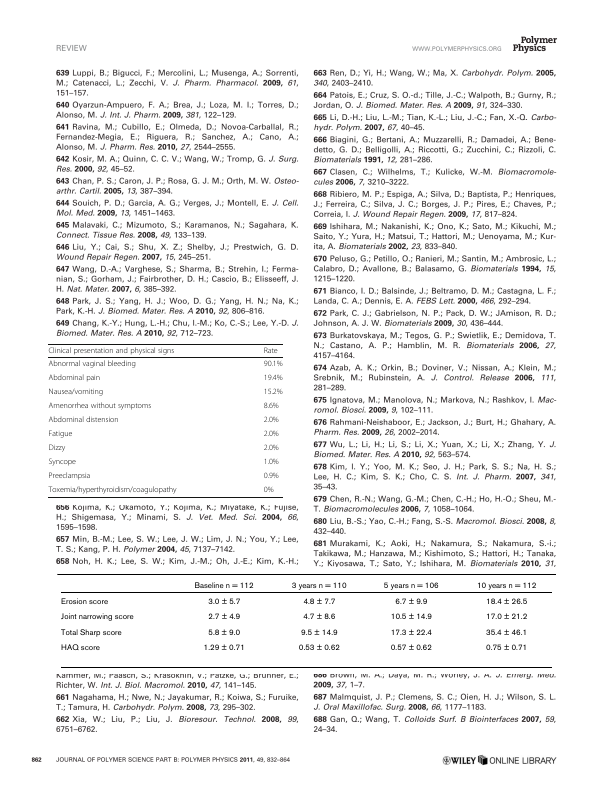borderless: (56, 572, 552, 667), (47, 342, 283, 497)
cell: (47, 485, 177, 495), (48, 346, 175, 355), (48, 401, 152, 411), (48, 359, 137, 369), (59, 613, 134, 623), (48, 415, 120, 425), (59, 628, 122, 638), (475, 581, 537, 591), (193, 581, 254, 591), (290, 581, 347, 591), (382, 581, 439, 591), (48, 387, 104, 397), (48, 373, 101, 383), (59, 597, 108, 607), (484, 597, 528, 607), (484, 613, 528, 623), (484, 628, 528, 638), (484, 644, 528, 654), (389, 613, 432, 623), (389, 628, 432, 638), (202, 644, 245, 654), (297, 644, 340, 654), (389, 644, 432, 654), (48, 471, 91, 481), (59, 644, 100, 654), (299, 628, 338, 638), (207, 597, 241, 607), (302, 597, 336, 607), (394, 597, 428, 607), (207, 613, 241, 623), (302, 613, 336, 623), (207, 628, 241, 638), (48, 457, 77, 467), (48, 429, 73, 439), (263, 359, 283, 369), (263, 373, 283, 383), (263, 387, 283, 397), (48, 443, 66, 453), (263, 401, 280, 411), (263, 415, 280, 425), (263, 429, 280, 439), (263, 443, 280, 453), (263, 457, 280, 467), (263, 471, 280, 481), (263, 346, 279, 355), (263, 485, 274, 495)
